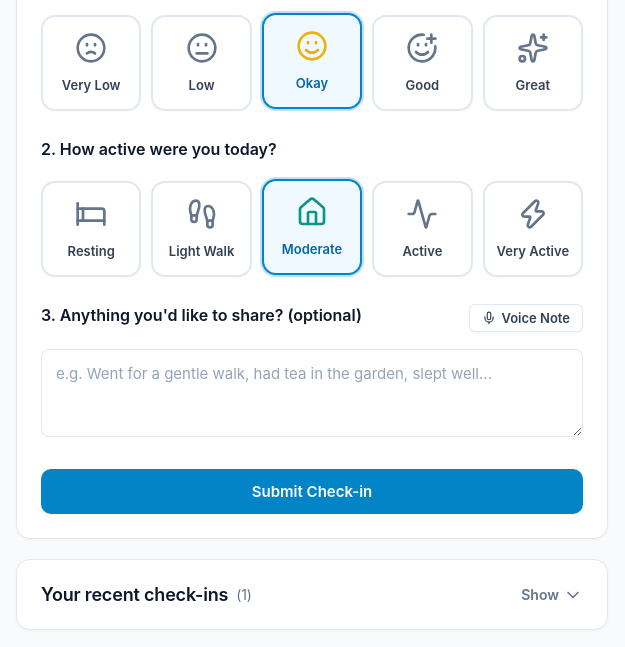
it: ElderCheckin › renders rating options and toggleable check-in history
The image size is (625, 647).
(page scrolled)
Expected: the radio button with aria-label "4 - Good" is shown, 372,15 -> 473,111
Expected: the radio button with aria-label "3 - Moderate" is shown, 262,179 -> 362,275
# Toggle history section open
Click the button "Your recent check-ins (1) Show".
click(135, 594)  # box 41,584 -> 583,605
(page scrolled)
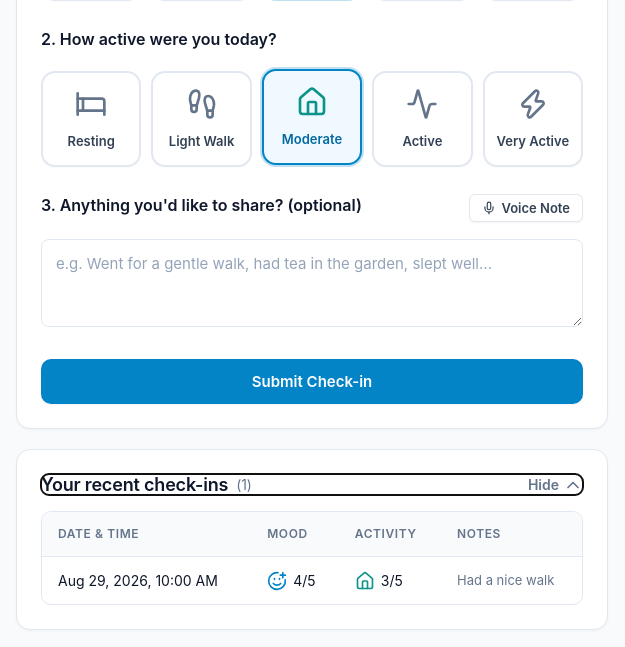
Expected: the text "Had a nice walk" is shown, 441,557 -> 582,604
